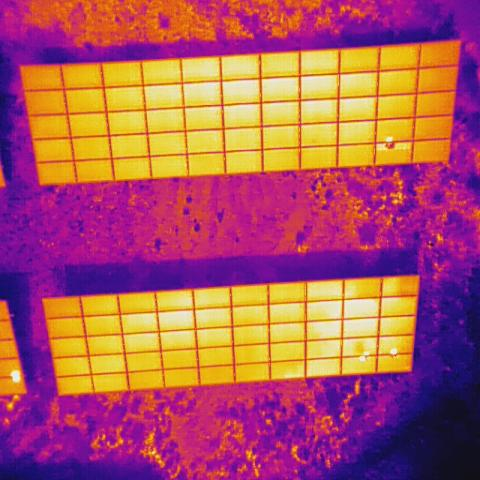fault: (10, 366, 21, 384), (388, 345, 399, 360), (384, 132, 394, 143), (358, 354, 367, 365)
